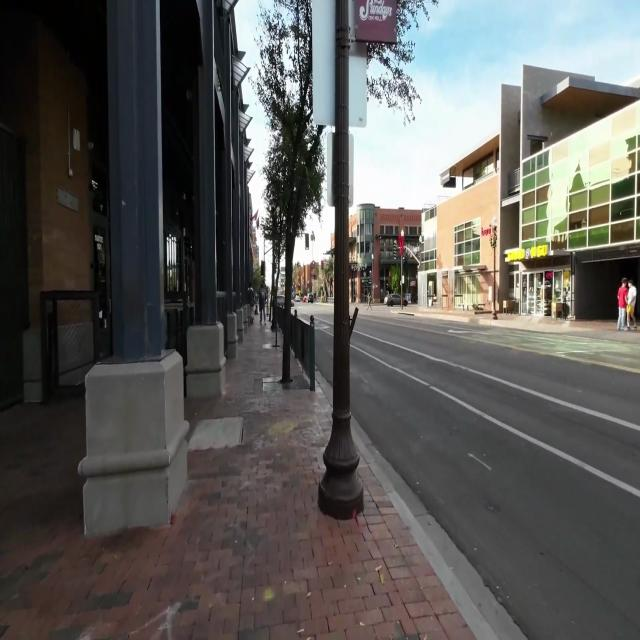road: (350, 304, 640, 639)
side walk: (0, 347, 486, 639)
street sign: (324, 0, 362, 519)
